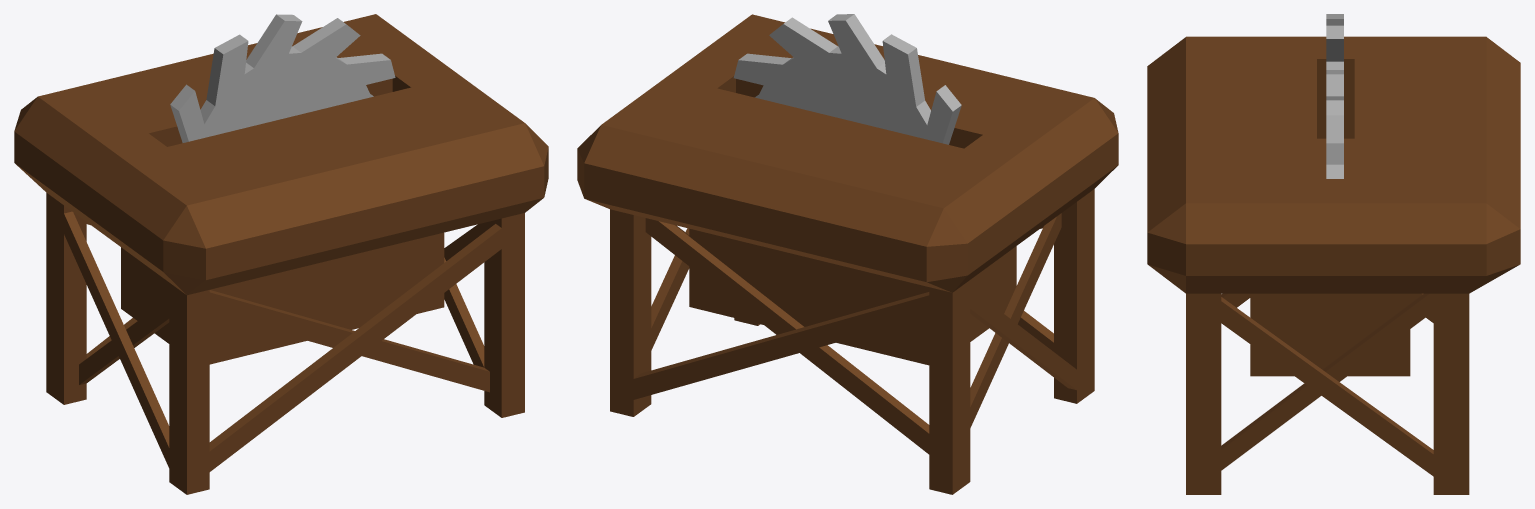
The model's file is WoodCutter.fbx.
The picture shows the model from 3 angles, left to right: view 1: azimuth 30°, elevation 25°; view 2: azimuth 150°, elevation 25°; view 3: azimuth 270°, elevation 25°; orthographic projection.
Parts seen in each view (by area): view 1: Table, Saw; view 2: Table, Saw; view 3: Table, Saw.
Part boxes in pixels (x1=…): Table: x1=14, y1=14, x2=548, y2=494; Saw: x1=170, y1=14, x2=395, y2=142; Table: x1=577, y1=14, x2=1118, y2=494; Saw: x1=733, y1=14, x2=961, y2=144; Table: x1=1147, y1=36, x2=1520, y2=494; Saw: x1=1326, y1=14, x2=1343, y2=178.
Size of the model in its own units: 68.86 by 65.25 by 57.25.
